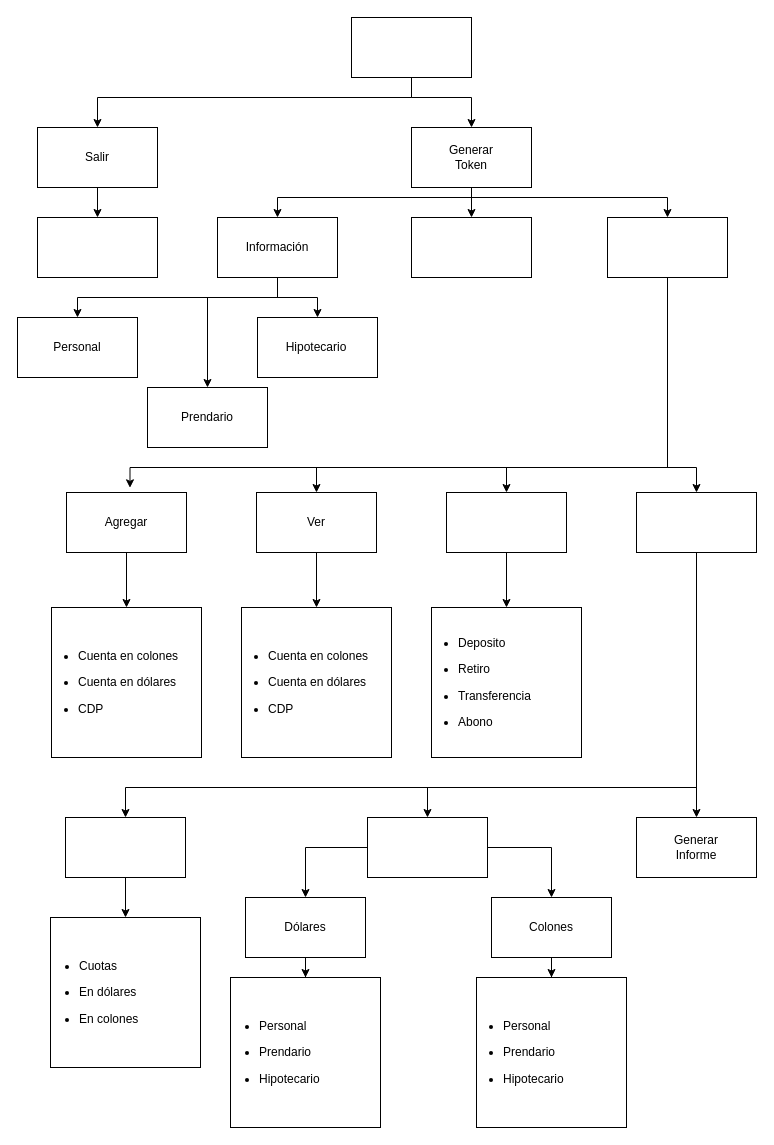
The diagram is 774 pixels wide and 1145 high, and some of its shapes have lost their labels. The shapes that lost their labels are listed below. From the top down, each one's centre as x and y in pixels, then its label:
At pixel 411 47: "Bienvenido".
At pixel 97 247: "Terminar programa".
At pixel 471 247: "Numero de Token".
At pixel 667 247: "Atención".
At pixel 506 522: "Operaciones".
At pixel 696 522: "Préstamo".
At pixel 125 847: "Pagar".
At pixel 427 847: "Solicitar".
